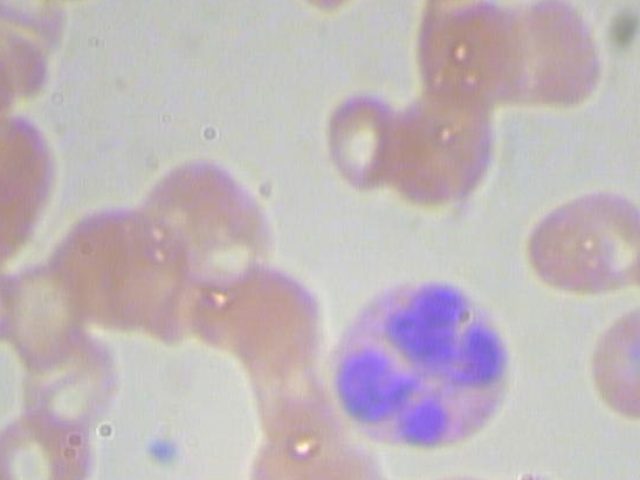Platelets: (144, 428, 182, 468)
RBC: (133, 149, 288, 310), (386, 82, 508, 212), (518, 187, 640, 300), (207, 265, 332, 371), (406, 0, 520, 102), (312, 88, 404, 195), (8, 259, 88, 374), (521, 0, 602, 105), (0, 406, 100, 480), (584, 305, 640, 418)
WBC: (310, 274, 540, 455)
